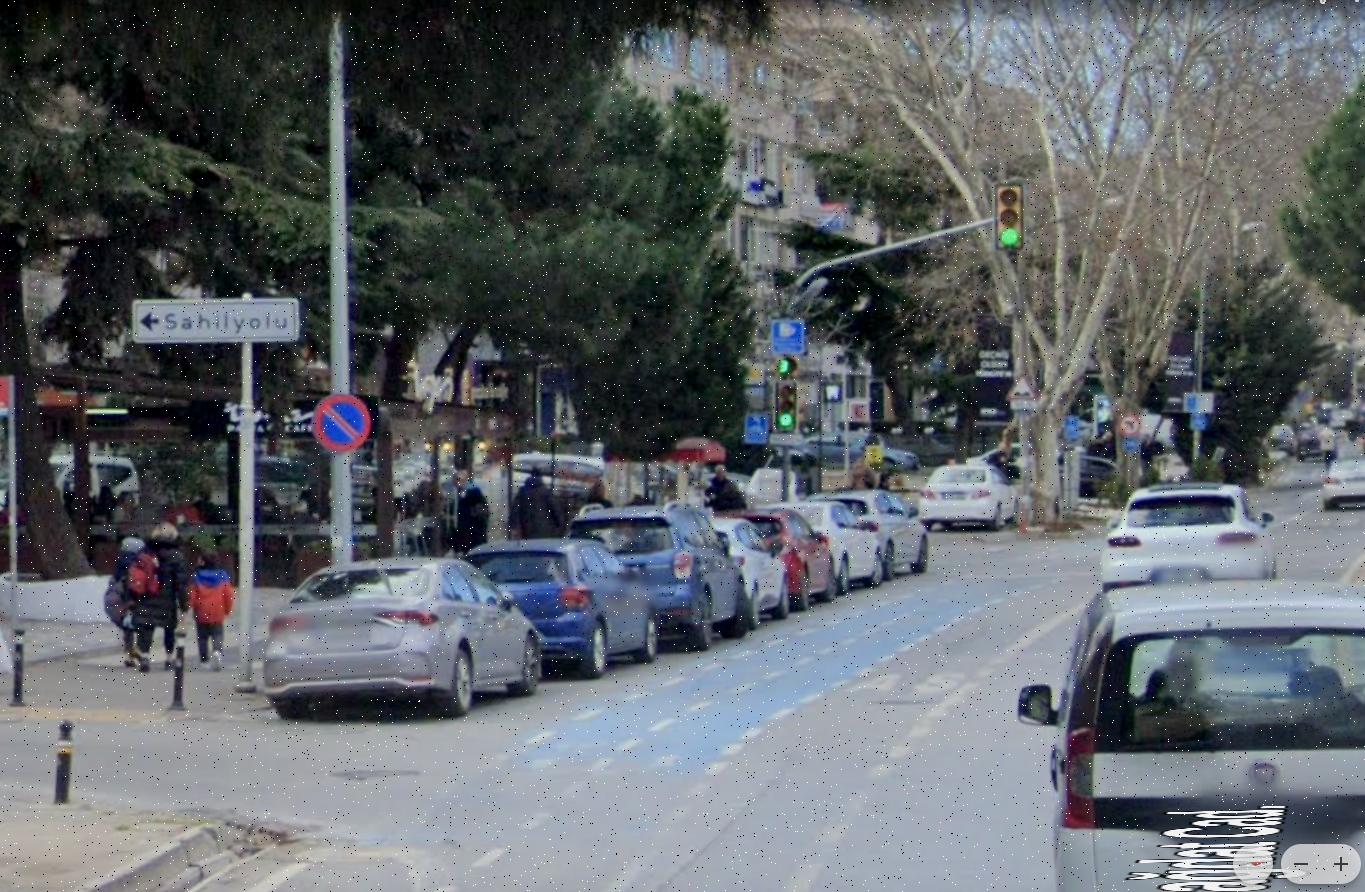greenlight: (994, 181, 1022, 249), (774, 378, 796, 431)
nopark: (314, 397, 370, 449)
